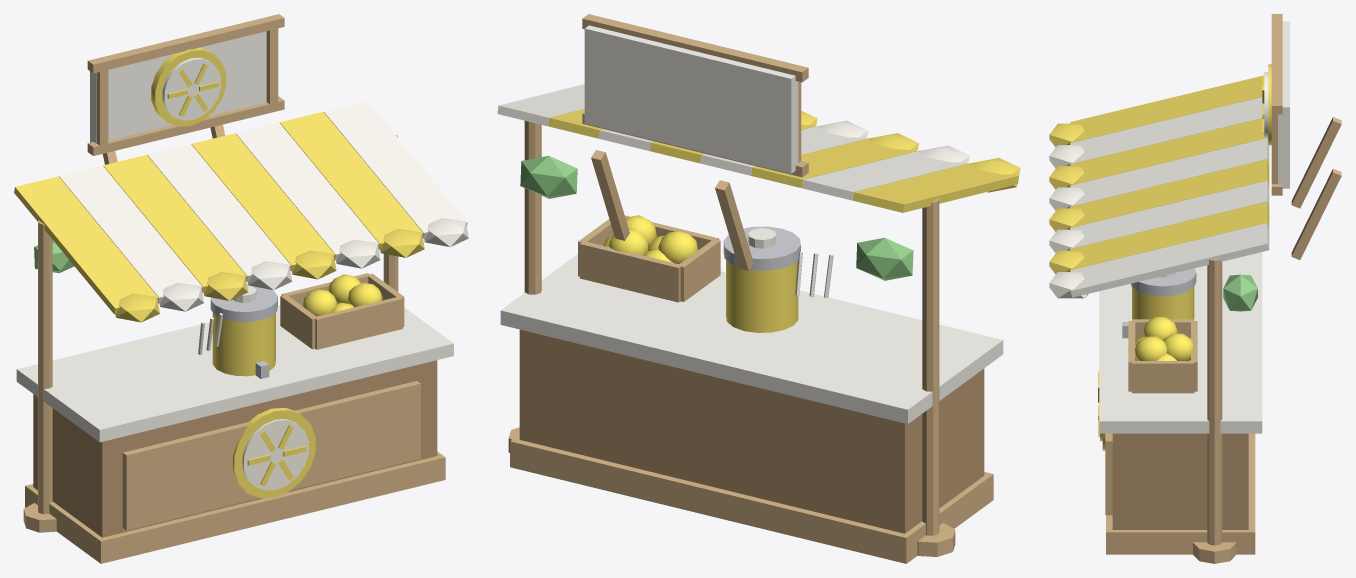
Rendered from stall_stand.glb.
3 views of the same model, side by side, from view 1: azimuth 30°, elevation 25°; view 2: azimuth 150°, elevation 25°; view 3: azimuth 270°, elevation 25° (orthographic). The views are drawn at different scales.
Parts seen in each view (by area): view 1: stall_stand; view 2: stall_stand; view 3: stall_stand.
Boxes of the visible parts, x1,y1,x2,y2 form: stall_stand: [14, 14, 468, 563]; stall_stand: [497, 14, 1020, 563]; stall_stand: [1049, 14, 1341, 563].
Bounding box in the file's own units: 3.21 × 3.35 × 2.15.
